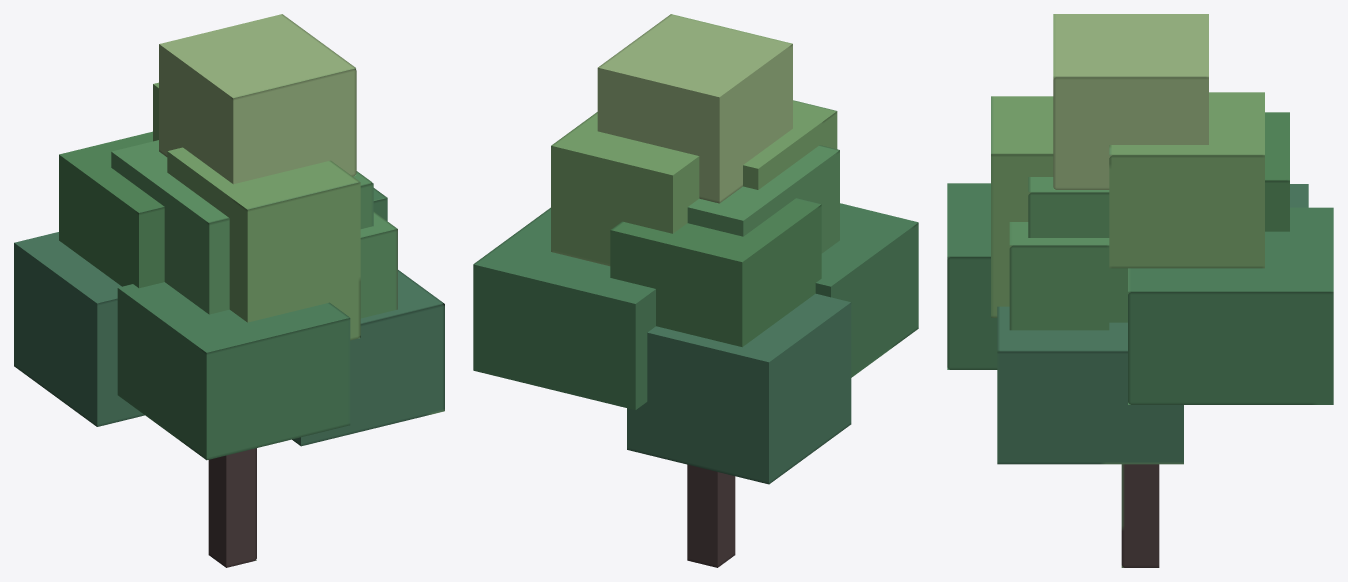
Rendered from tree 2.fbx.
3 renders of one model, left to right at view 1: azimuth 30°, elevation 25°; view 2: azimuth 150°, elevation 25°; view 3: azimuth 270°, elevation 25°, orthographic. The views are drawn at different scales.
Visible parts, largest first — view 1: cube_3, cube_11, cube_9, cube_2, cube_4, cube_8, cube_6, cube, cube_10; view 2: cube_2, cube_5, cube_11, cube_8, cube_7, cube_3, cube_6, cube, cube_9; view 3: cube_5, cube_11, cube_7, cube_4, cube_10, cube_3, cube_9, cube_6, cube, cube_8.
Part boxes in pixels (box(x1,y1,x2,y2)): cube_3: box(117, 282, 350, 460); cube_11: box(159, 14, 356, 184); cube_9: box(167, 147, 360, 340); cube_2: box(14, 232, 144, 426); cube_4: box(292, 270, 444, 446); cube_8: box(59, 131, 164, 288); cube_6: box(111, 140, 373, 314); cube: box(208, 448, 256, 567); cube_10: box(360, 211, 397, 318); cube_2: box(627, 293, 851, 484); cube_5: box(473, 207, 655, 410); cube_11: box(597, 14, 792, 203); cube_8: box(610, 198, 821, 347); cube_7: box(551, 112, 699, 266); cube_3: box(815, 203, 918, 377); cube_6: box(687, 145, 839, 253); cube: box(687, 464, 735, 567); cube_9: box(743, 100, 837, 189); cube_5: box(1128, 207, 1333, 404); cube_11: box(1053, 14, 1208, 189); cube_7: box(1109, 92, 1264, 268); cube_4: box(997, 306, 1183, 464); cube_10: box(1009, 222, 1109, 330); cube_3: box(947, 183, 999, 369); cube_9: box(991, 96, 1053, 317); cube_6: box(1028, 177, 1130, 322); cube: box(1121, 464, 1159, 567); cube_8: box(1265, 112, 1289, 231).
Bounding box in the file's own units: 350 × 581 × 388.
Materials: 1 (1 with a texture image).
